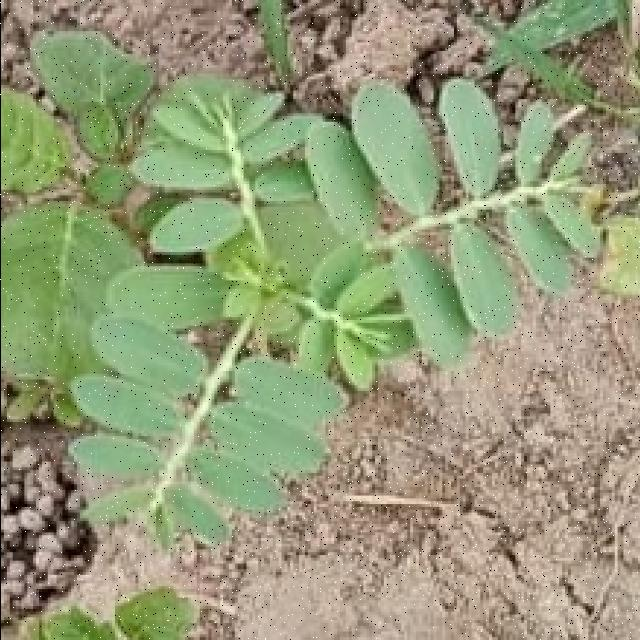plant: (3, 32, 601, 546)
